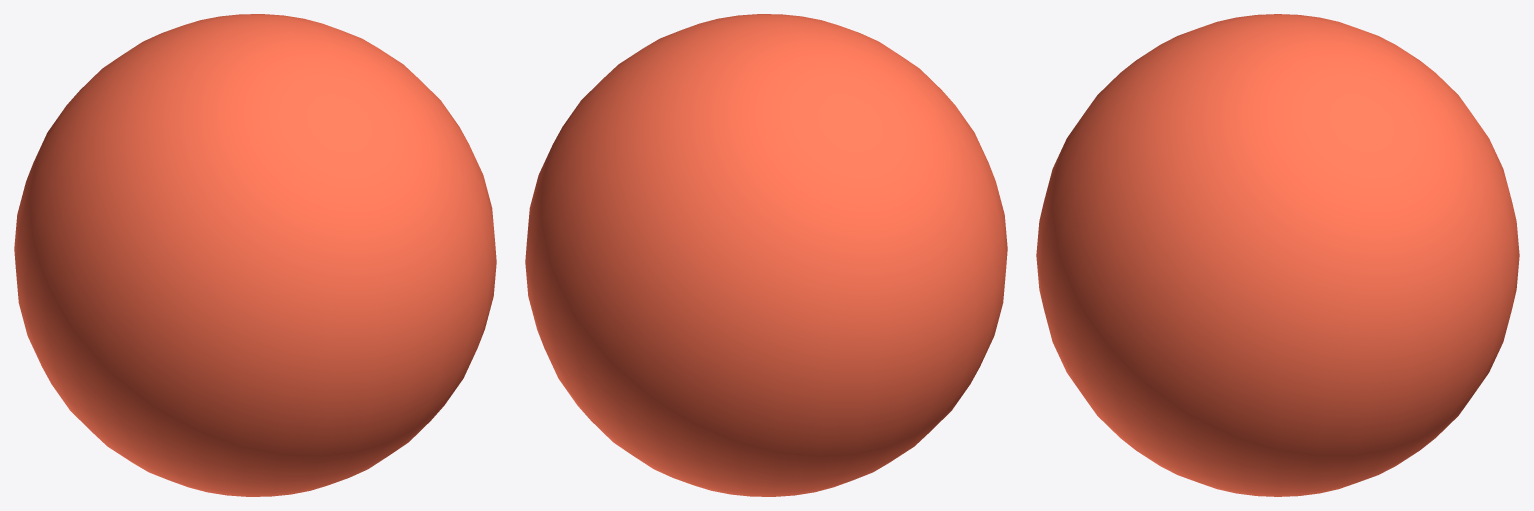
The model's file is mars.glb.
3 views of the same model, side by side, from view 1: azimuth 30°, elevation 25°; view 2: azimuth 150°, elevation 25°; view 3: azimuth 270°, elevation 25° (orthographic).
Visible parts, largest first — view 1: mars; view 2: mars; view 3: mars.
Part boxes in pixels (box(x1,y1,x2,y2)): mars: box(14, 14, 496, 496); mars: box(525, 14, 1007, 496); mars: box(1036, 14, 1519, 496).
Bounding box in the file's own units: 2 × 2 × 2.
